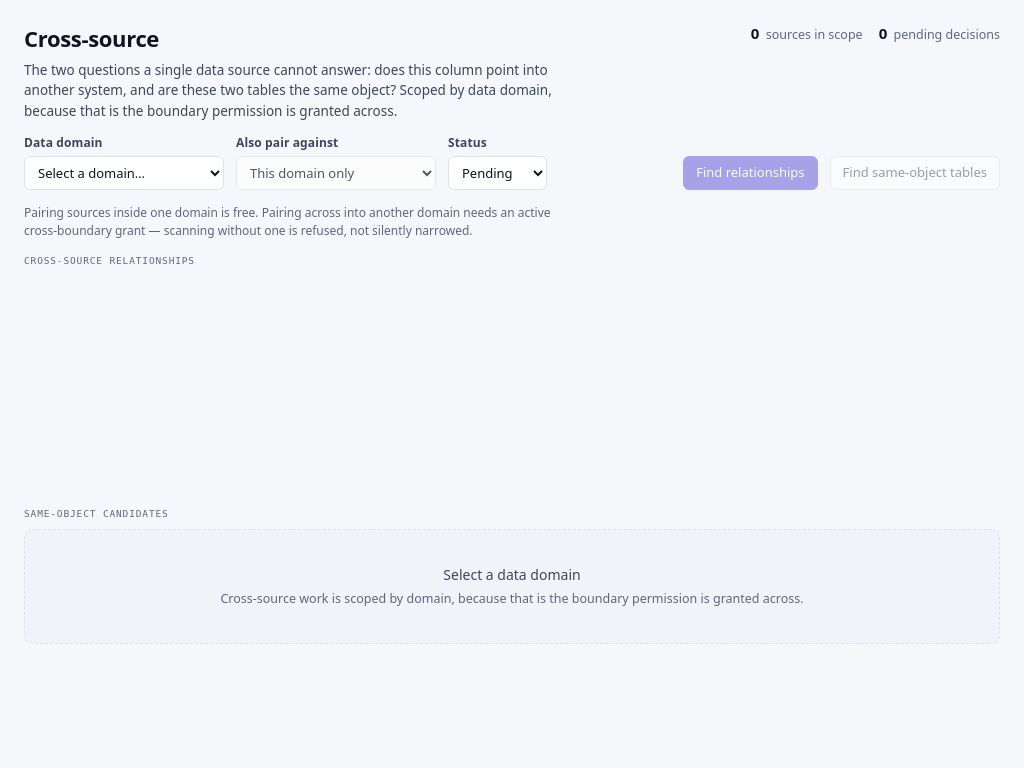
Test case: renders a candidate as a symmetric pair with its evidence
Select "Finance" in the dropdown labelled "Data domain": [124, 172] box [24, 156, 224, 190]
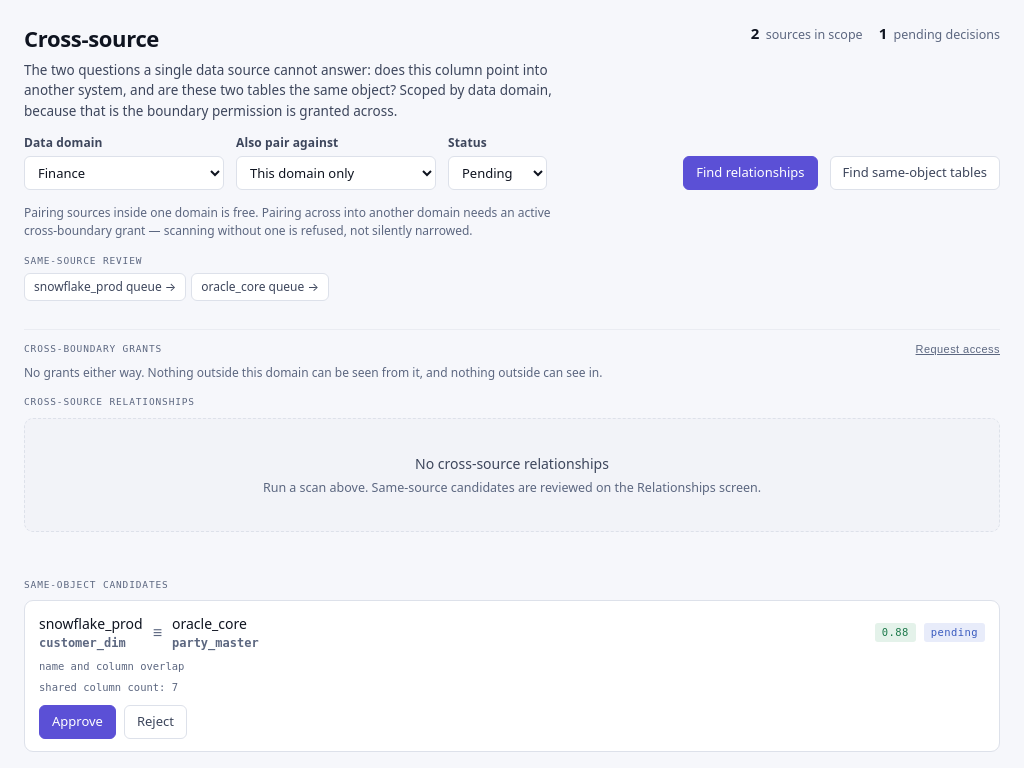
expect the text "customer_dim" is shown: met, box [39, 636, 126, 650]
expect the text "party_master" is shown: met, box [172, 634, 259, 652]
expect the text "snowflake_prod" is shown: met, box [39, 614, 143, 633]
